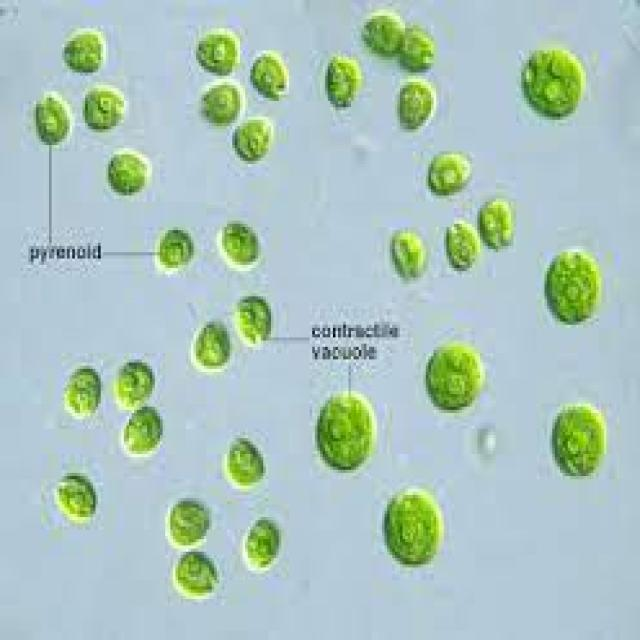Green Algae: (315, 388, 379, 473), (382, 482, 444, 568), (522, 41, 584, 120), (420, 334, 482, 413), (550, 400, 609, 482), (542, 249, 599, 325), (80, 79, 134, 139), (245, 47, 292, 107), (320, 50, 364, 114), (49, 470, 101, 523), (359, 10, 405, 66), (168, 492, 214, 548), (426, 145, 477, 195), (242, 514, 284, 574), (224, 432, 268, 489), (103, 148, 155, 196), (230, 110, 276, 164), (194, 28, 242, 79), (390, 224, 428, 287), (173, 548, 222, 596), (214, 218, 261, 268), (441, 214, 480, 274), (235, 293, 276, 350), (119, 407, 165, 457), (395, 76, 436, 132), (62, 363, 103, 419), (34, 88, 72, 148), (111, 359, 157, 407), (480, 196, 519, 252), (196, 79, 245, 123), (62, 28, 106, 76), (191, 315, 230, 369), (150, 227, 191, 271), (400, 28, 436, 76)
